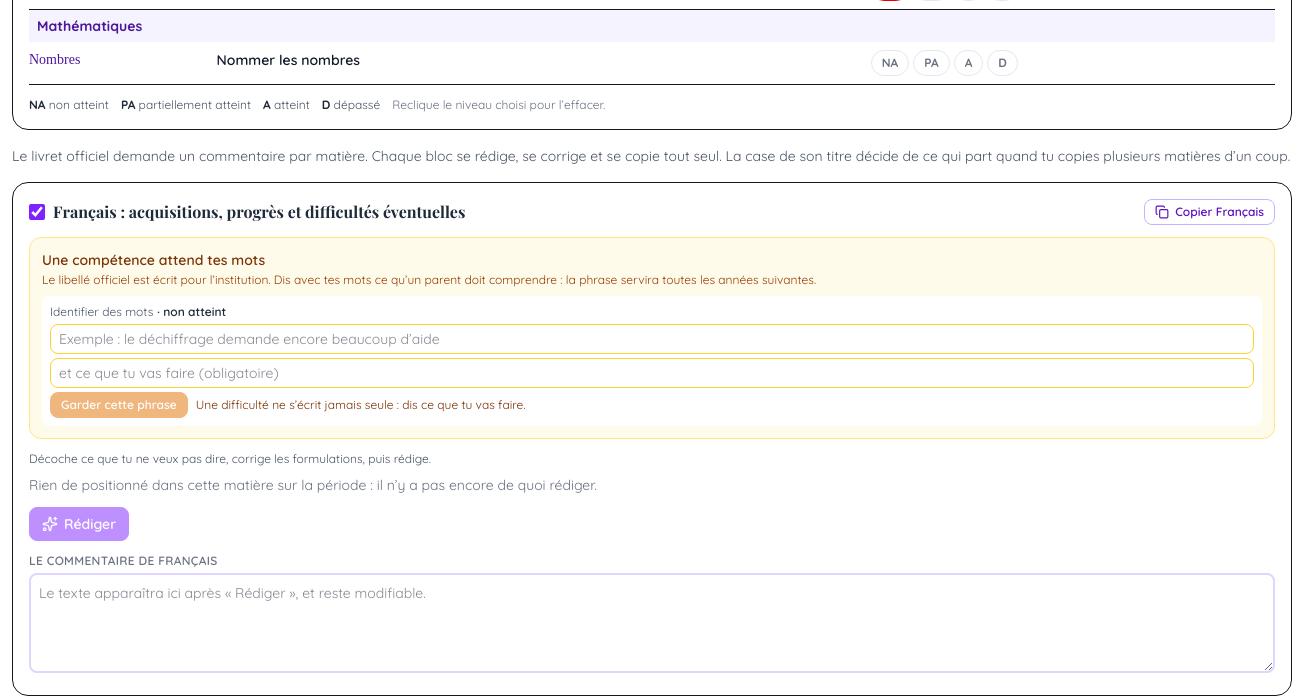
Test: Livret › refuse une difficulté sans sa prochaine étape
(page scrolled)
Type "le déchiffrage reste difficile" into the field named "comment dire « identifier des mots » quand c’est non atteint" at (652, 339), box x1=50 y1=324 x2=1254 y2=354
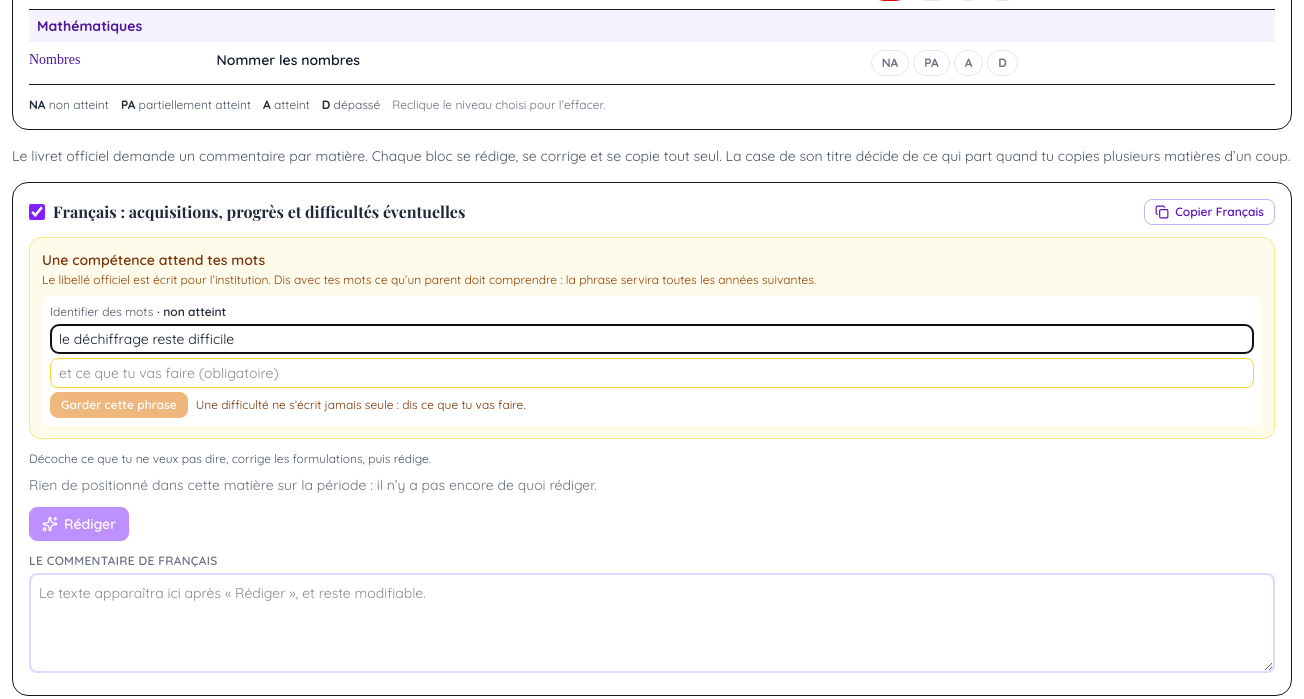
Expected: the button "Garder cette phrase" is disabled, x1=50 y1=392 x2=188 y2=418
Expected: the text "Une difficulté ne s’écrit jamais seule" is shown, x1=196 y1=397 x2=526 y2=412
Type "nous le reverrons en petit groupe" into the field named "prochaine étape" at (652, 373), box x1=50 y1=358 x2=1254 y2=388
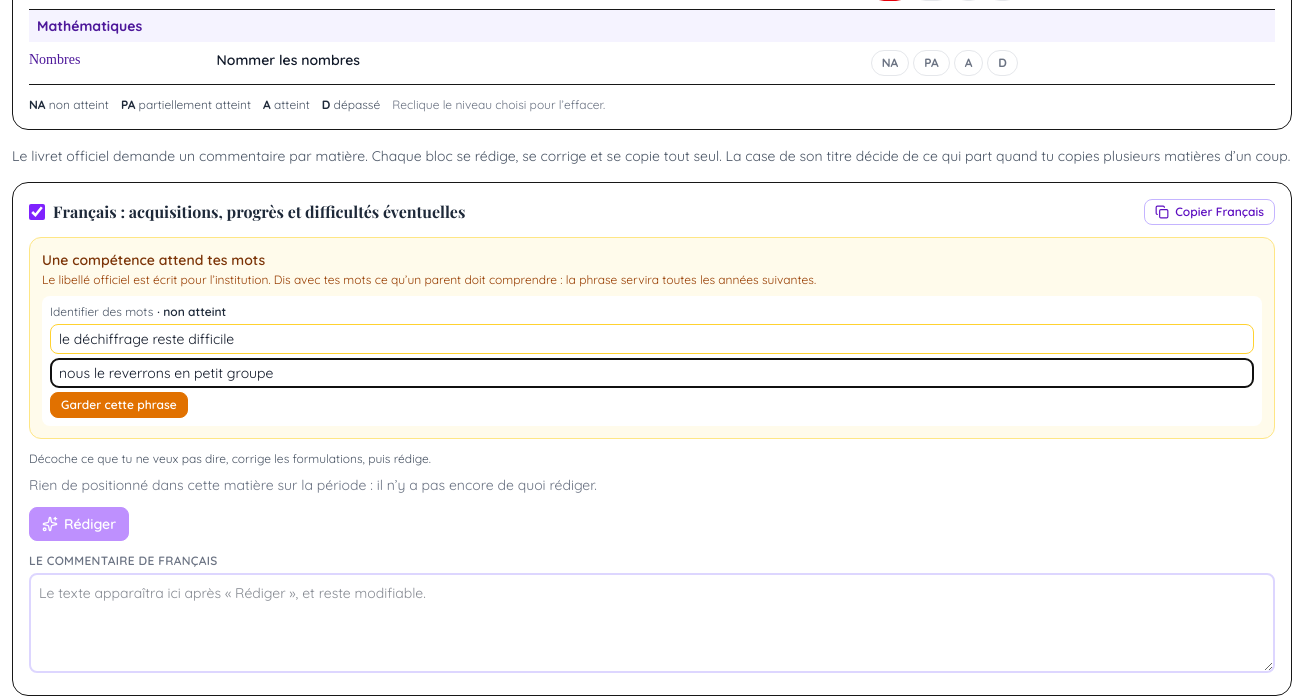
Expected: the button "Garder cette phrase" is enabled, x1=50 y1=392 x2=188 y2=418
